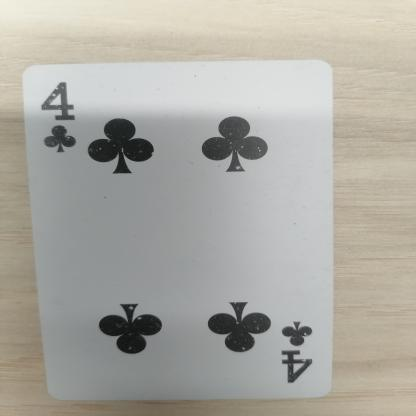4C: (28, 70, 89, 160), (268, 316, 340, 384)
